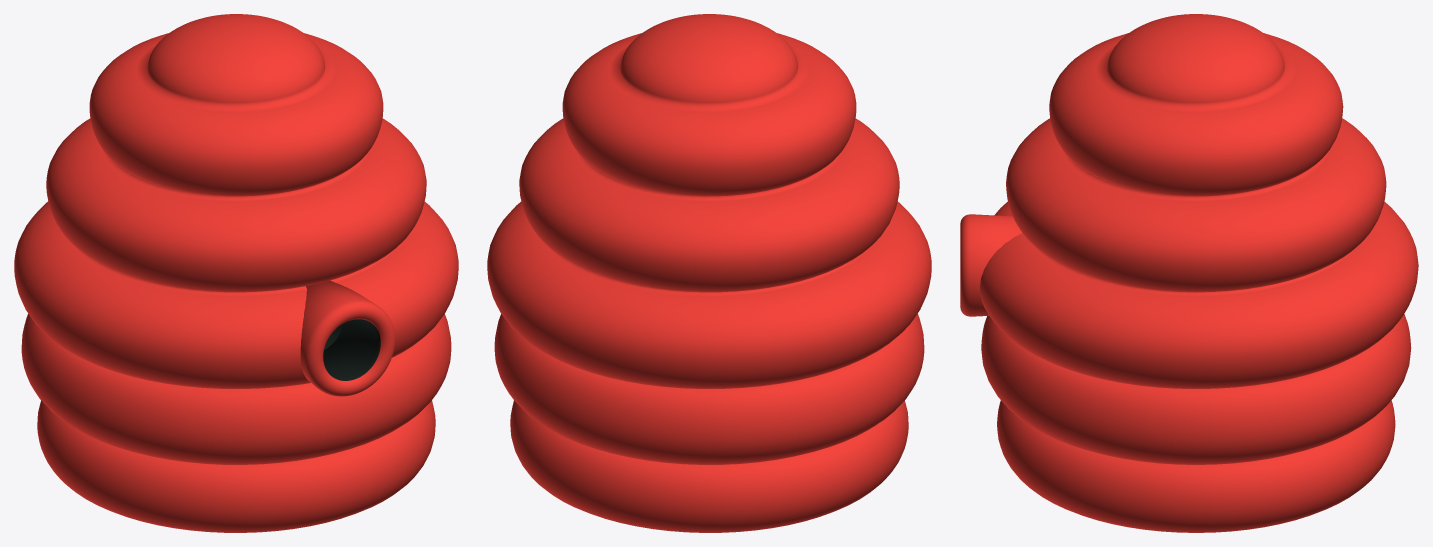
Rendered from Small_Hive_Red.fbx.
3 views of the same model, side by side, from view 1: azimuth 30°, elevation 25°; view 2: azimuth 150°, elevation 25°; view 3: azimuth 270°, elevation 25° (orthographic).
Visible parts, largest first — view 1: Small_Hive_Red_Body, Small_Hive_Red_Entrance_Collar; view 2: Small_Hive_Red_Body; view 3: Small_Hive_Red_Body, Small_Hive_Red_Entrance_Collar.
Boxes of the visible parts, bbox=[...] form: Small_Hive_Red_Body: bbox=[14, 14, 458, 532]; Small_Hive_Red_Entrance_Collar: bbox=[300, 280, 395, 396]; Small_Hive_Red_Body: bbox=[487, 14, 931, 532]; Small_Hive_Red_Body: bbox=[980, 14, 1418, 532]; Small_Hive_Red_Entrance_Collar: bbox=[960, 214, 1021, 316].
Size of the model in its own units: 209 by 223 by 215.
